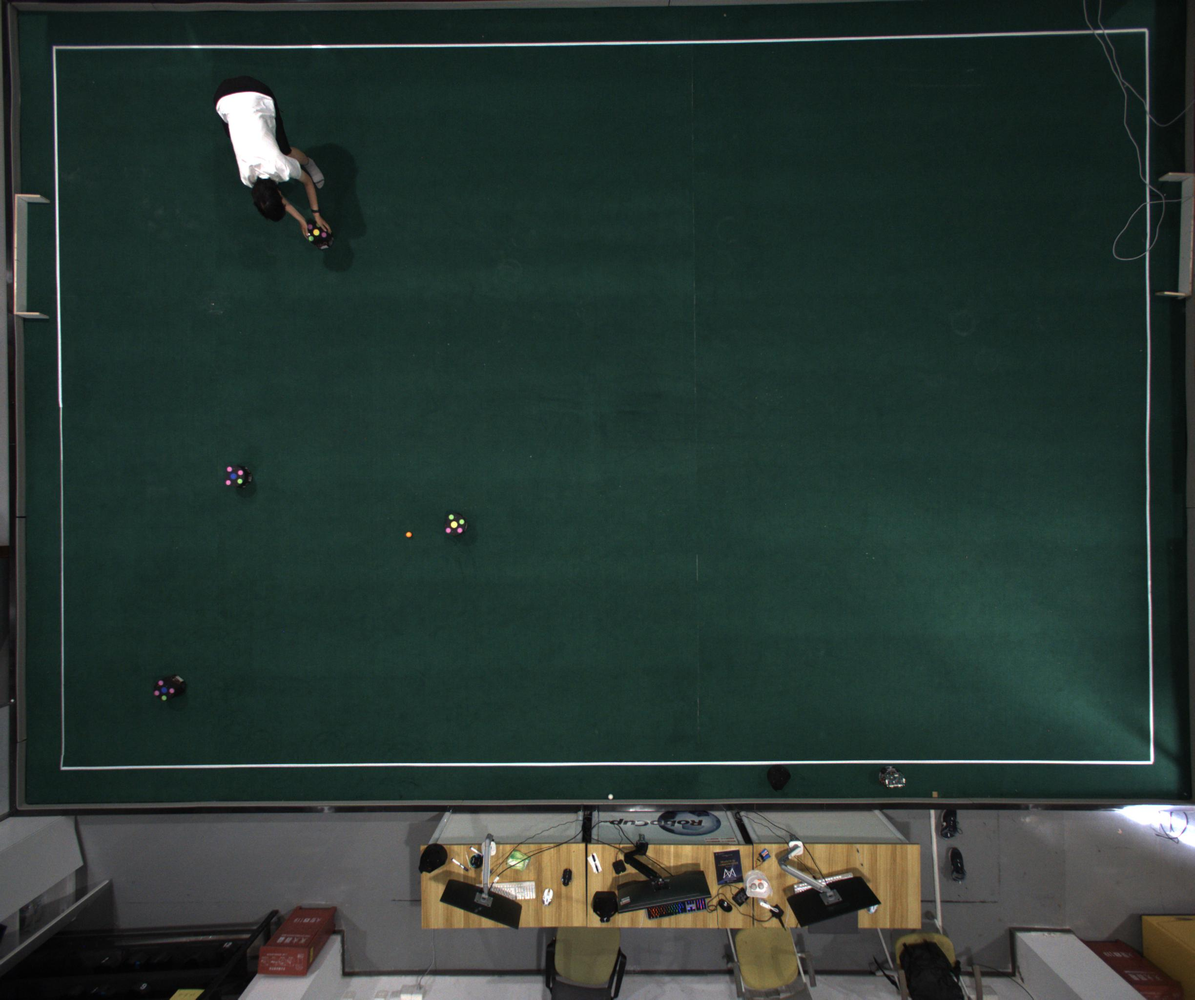ball: (407, 531, 412, 538)
blue_bot: (153, 679, 177, 702), (225, 465, 246, 488)
yellow_bot: (443, 512, 467, 537)
